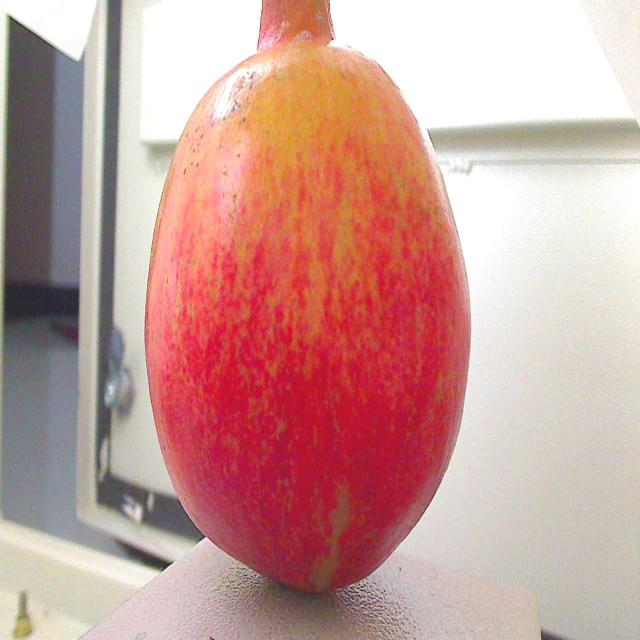pomegranate: (138, 0, 480, 610)
